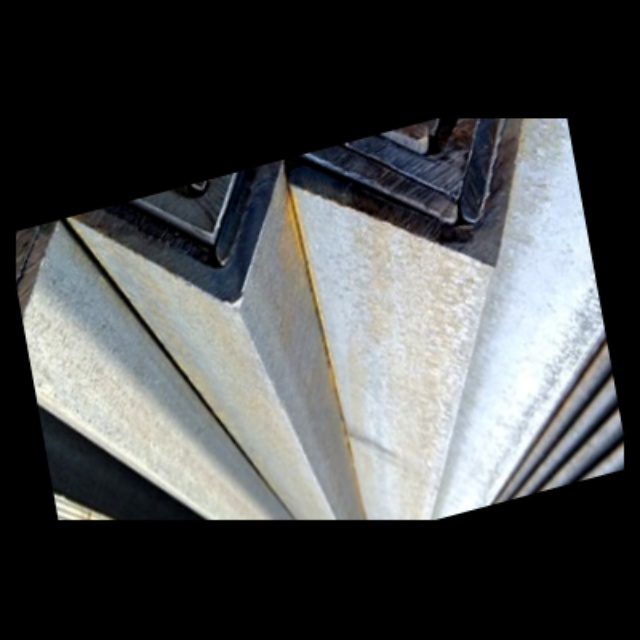Angle: (301, 118, 537, 289), (70, 162, 293, 320), (213, 120, 448, 261), (16, 185, 201, 298), (294, 118, 499, 215), (67, 165, 269, 251), (461, 118, 578, 208), (16, 222, 74, 346)
